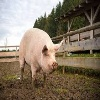heo: (17, 27, 61, 87)
